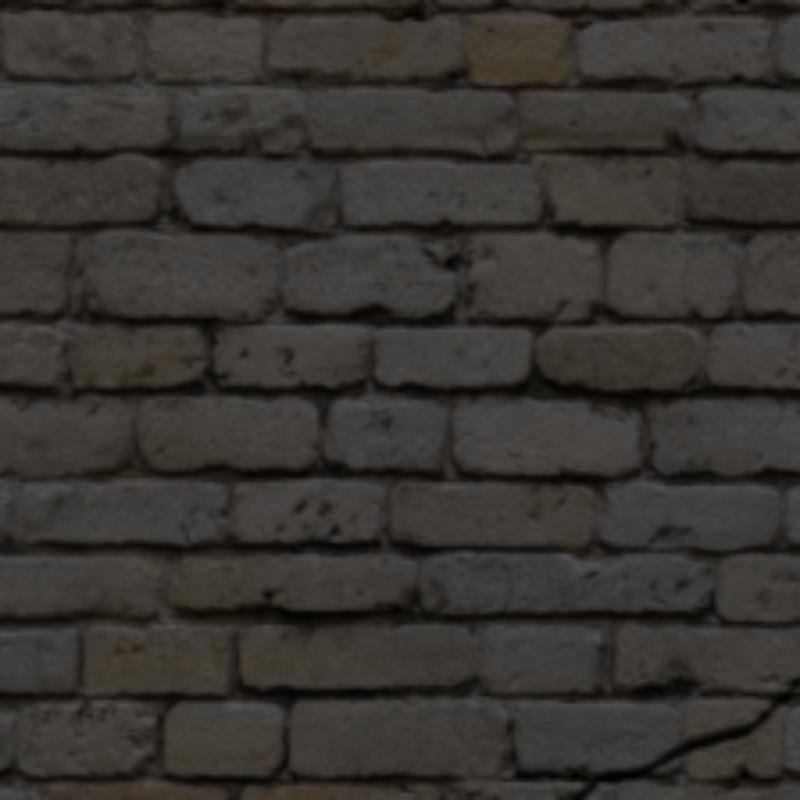crack: (568, 675, 796, 796)
